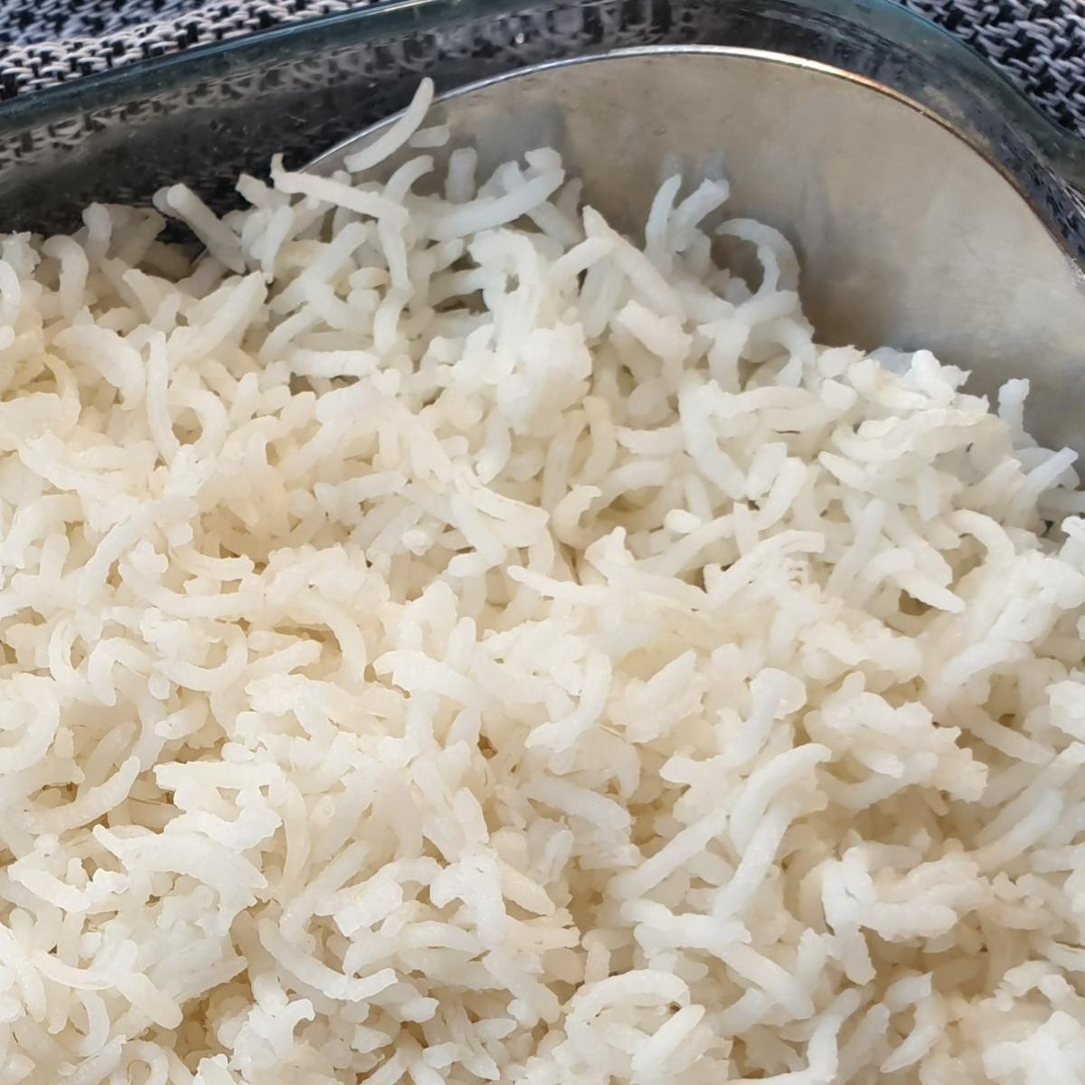rice: (0, 169, 1083, 1085)
